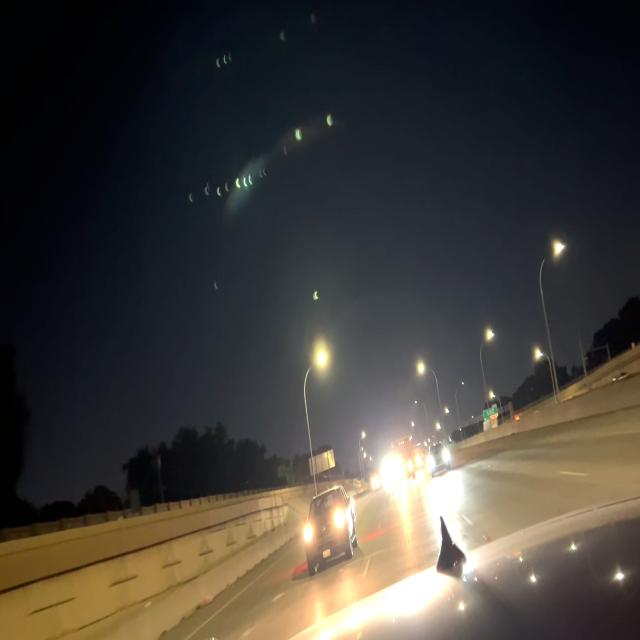back-of-sign: (307, 447, 335, 479)
